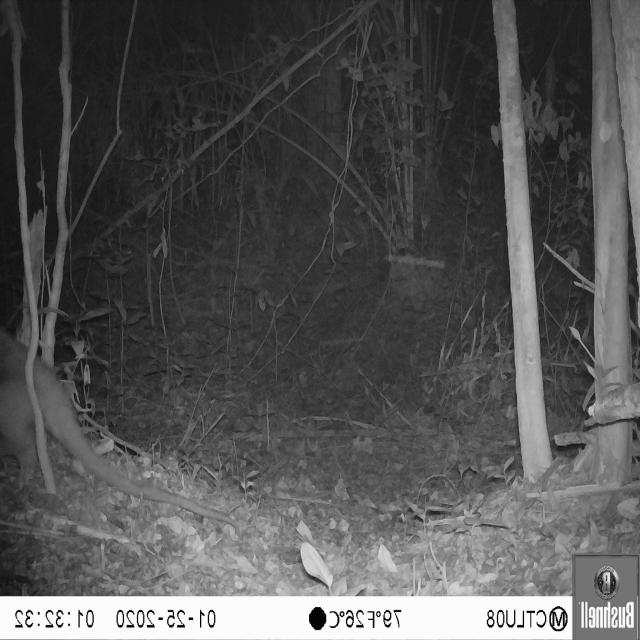Southern Tamandua: (0, 332, 232, 516)
